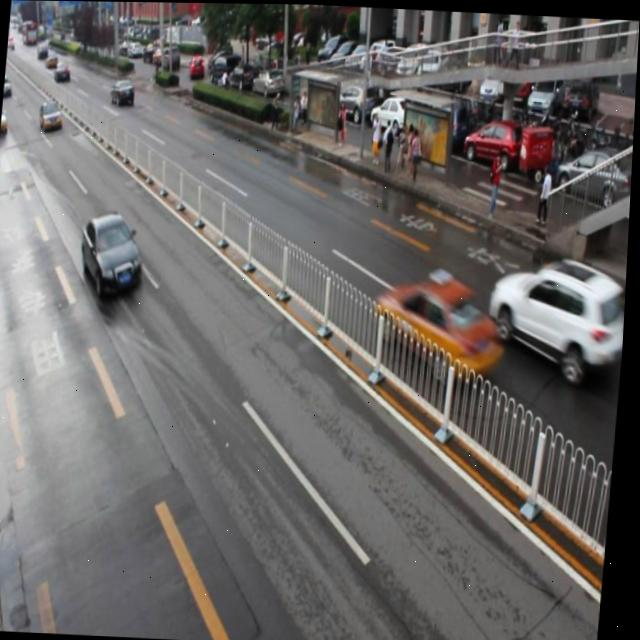car: (485, 249, 630, 379), (372, 267, 505, 383), (80, 208, 148, 298)
